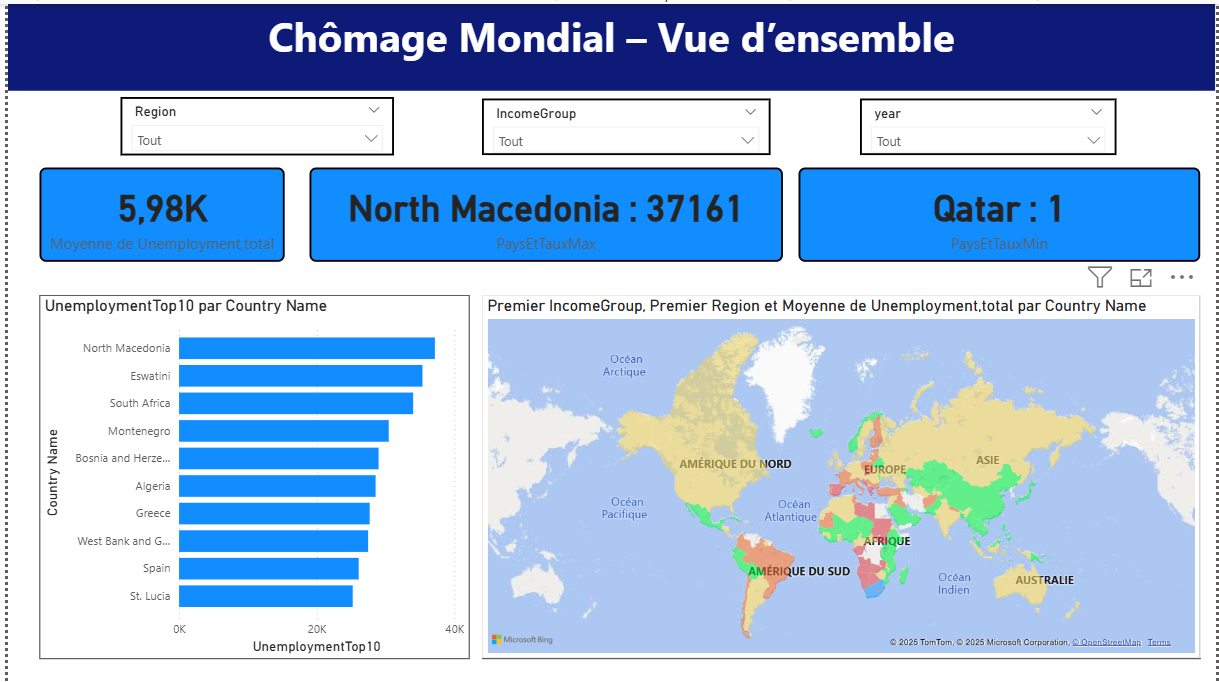

This screenshot's page, from the dashboard's own definition file:
{"tool":"powerbi","page":{"name":"Page 1","canvas":[1280,720],"ordinal":0},"visuals":[{"type":"textbox","box":[0,0,1280,92],"z":0},{"type":"slicer","fields":{"Values":["dataset_nettoye.year"]},"box":[904,100,272,60],"z":1000},{"type":"slicer","fields":{"Values":["dataset_nettoye.Region"]},"box":[120,98,290,62],"z":2000},{"type":"slicer","fields":{"Values":["dataset_nettoye.IncomeGroup"]},"box":[502,100,306,60],"z":3000},{"type":"filledMap","fields":{"Category":["dataset_nettoye.Country Name"]},"box":[502,308,762,386],"z":4000},{"type":"card","fields":{"Values":["Avg(dataset_nettoye.Unemployment,total)"]},"box":[34,174,260,100],"z":5000},{"type":"card","fields":{"Values":["dataset_nettoye.PaysMin"]},"box":[838,174,426,100],"z":6000},{"type":"card","fields":{"Values":["dataset_nettoye.PaysEtTauxMax"]},"box":[320,174,502,100],"z":7000},{"type":"clusteredBarChart","fields":{"Y":["dataset_nettoye.UnemploymentTop10"],"Category":["dataset_nettoye.Country Name"]},"box":[34,308,456,386],"z":8000}]}

Visuals, with their boxes in screenshot pixels (x1, y1, x2, y2), scaled from the page's 1280x720 canvas onto the 1219x682 screenshot:
textbox: 0 0 1218 87
slicer - dataset_nettoye.year: 861 95 1120 152
slicer - dataset_nettoye.Region: 114 93 390 152
slicer - dataset_nettoye.IncomeGroup: 478 95 769 152
filledMap - dataset_nettoye.Country Name: 478 292 1204 657
card - Avg(dataset_nettoye.Unemployment,total): 32 165 280 260
card - dataset_nettoye.PaysMin: 798 165 1204 260
card - dataset_nettoye.PaysEtTauxMax: 305 165 783 260
clusteredBarChart - dataset_nettoye.UnemploymentTop10 x dataset_nettoye.Country Name: 32 292 467 657
